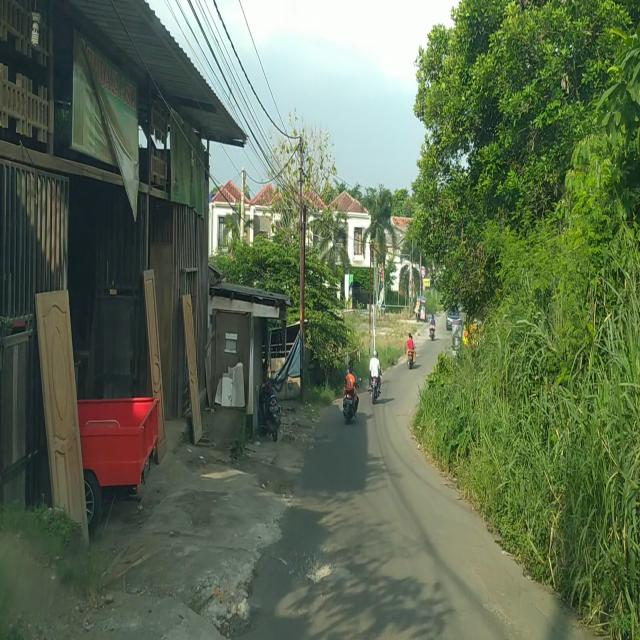Drain Hole: (287, 549, 337, 585)
